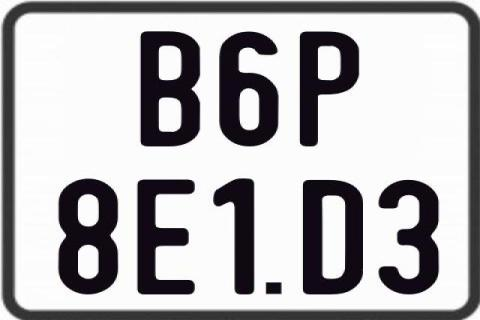0: (58, 178, 125, 298), (376, 180, 440, 299), (216, 29, 279, 145), (212, 176, 253, 296)
B: (141, 30, 201, 148)
D: (302, 178, 363, 294)
E: (135, 177, 193, 296)
P: (300, 31, 362, 147)
